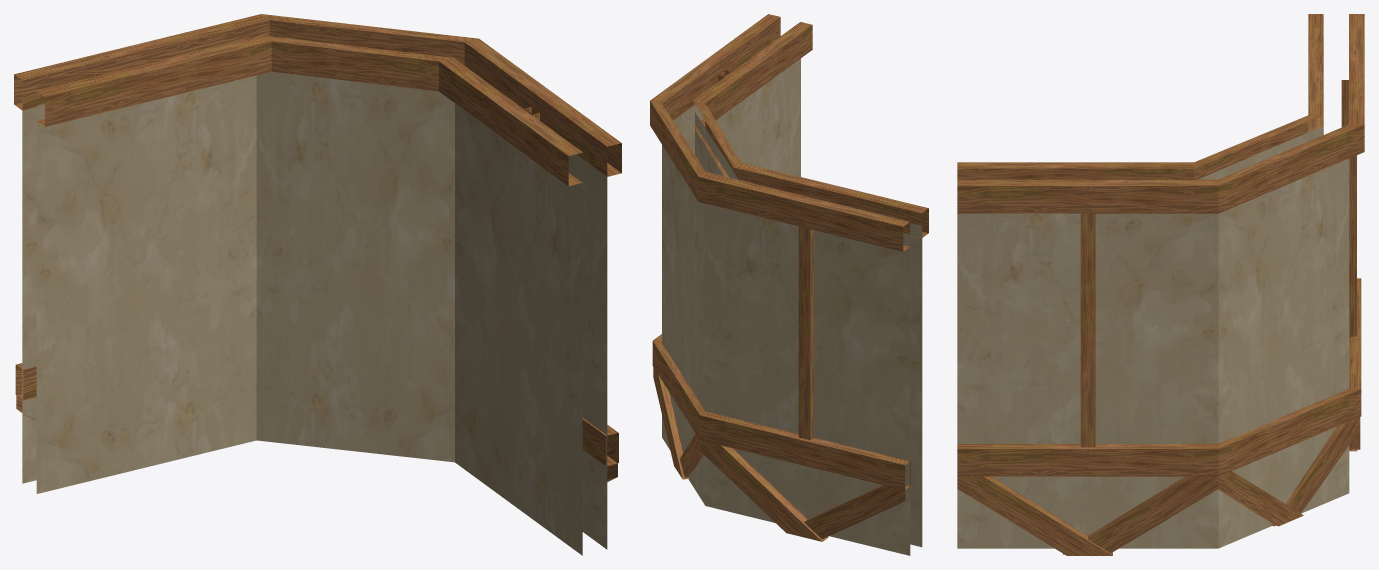
File: Overhang_Plaster_Corner_Front.gltf
3 renders of one model, left to right at view 1: azimuth 30°, elevation 25°; view 2: azimuth 150°, elevation 25°; view 3: azimuth 270°, elevation 25°, orthographic. The views are drawn at different scales.
Visible parts, largest first — view 1: Overhang_Plaster_Corner_Front; view 2: Overhang_Plaster_Corner_Front; view 3: Overhang_Plaster_Corner_Front.
Boxes of the visible parts, <box> form: Overhang_Plaster_Corner_Front: <box>14,14,621,555</box>; Overhang_Plaster_Corner_Front: <box>650,14,928,555</box>; Overhang_Plaster_Corner_Front: <box>957,14,1364,555</box>.
Bounding box in the file's own units: 3.12 × 3.14 × 3.12.
Materials: 2 (2 with a texture image).
